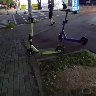beam: (58, 8, 91, 46)
gcooter: (25, 15, 68, 56)
